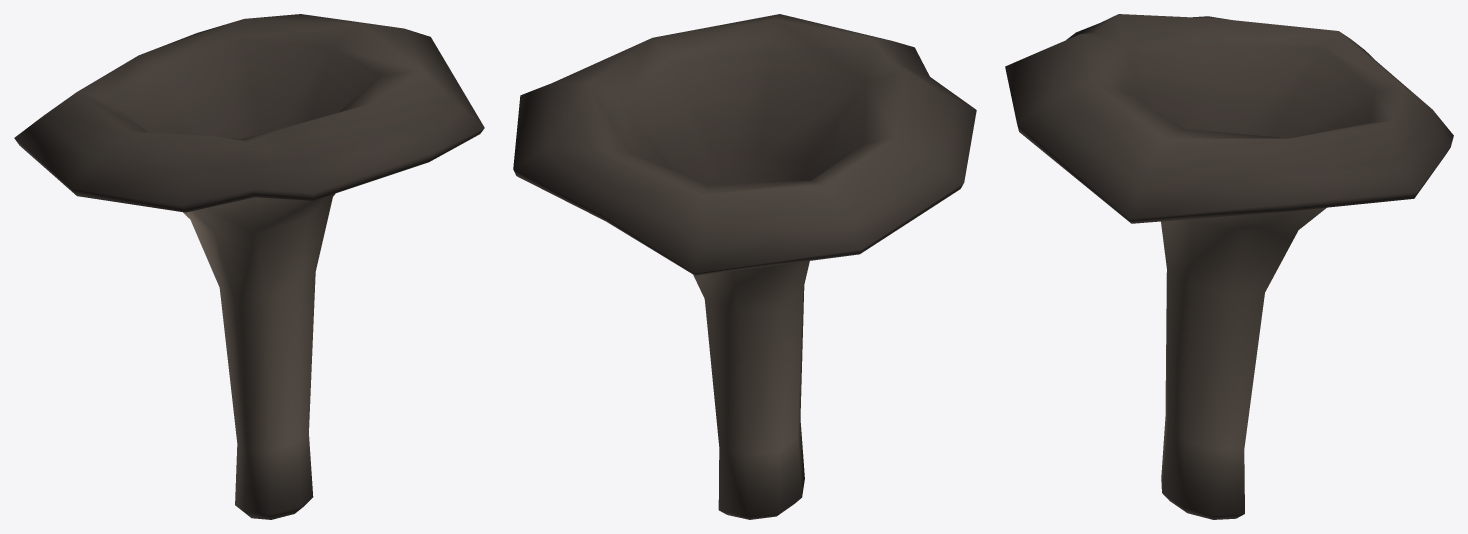
The model's file is SM_BlackTrumpet_B.fbx.
3 renders of one model, left to right at view 1: azimuth 30°, elevation 25°; view 2: azimuth 150°, elevation 25°; view 3: azimuth 270°, elevation 25°, orthographic. The views are drawn at different scales.
Parts seen in each view (by area): view 1: SM_BlackTrumpet_B; view 2: SM_BlackTrumpet_B; view 3: SM_BlackTrumpet_B.
Boxes of the visible parts, box(x1,y1,x2,y2) form: SM_BlackTrumpet_B: box(14, 14, 484, 519); SM_BlackTrumpet_B: box(513, 14, 976, 519); SM_BlackTrumpet_B: box(1005, 14, 1453, 519).
Bounding box in the file's own units: 33.55 × 35.12 × 31.72.
